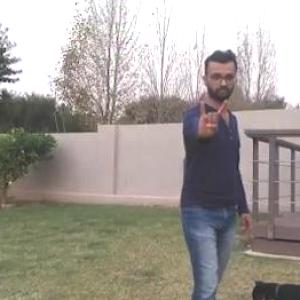takeoff-hand: (188, 85, 231, 145)
